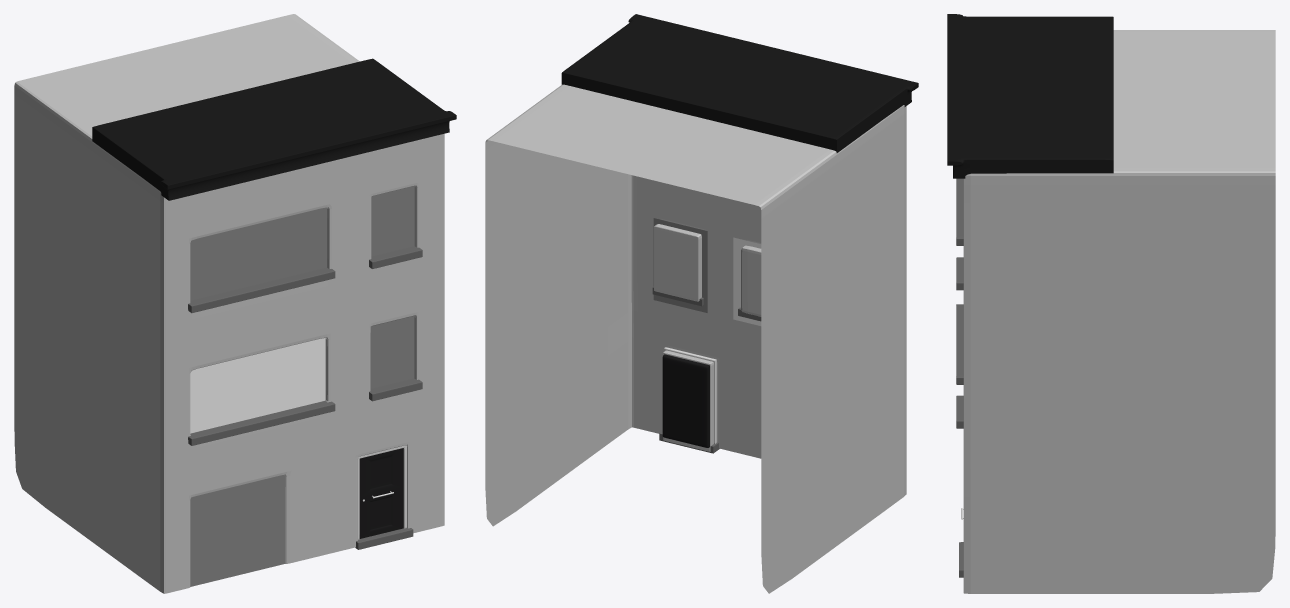
File: house.fbx
3 views of the same model, side by side, from view 1: azimuth 30°, elevation 25°; view 2: azimuth 150°, elevation 25°; view 3: azimuth 270°, elevation 25° (orthographic). The views are drawn at different scales.
Parts seen in each view (by area): view 1: house, roof, largewindow1, garage, largewindow2, door, smallwindow1, smallwindow2, doorstep.003, doorstep.004, doorstep.002, doorstep.001 (+2 smaller); view 2: house, roof, door, smallwindow1, largewindow1; view 3: house, roof, doorstep.004, doorstep.003.
Part boxes in pixels (x1,y1,x2,y2): house: (14,14,444,593); roof: (92,58,456,200); largewindow1: (190,338,325,433); garage: (190,475,285,586); largewindow2: (190,207,326,300); door: (359,448,403,538); smallwindow1: (370,316,414,388); smallwindow2: (371,186,414,256); doorstep.003: (188,267,335,313); doorstep.004: (188,401,335,445); doorstep.002: (369,246,422,268); doorstep.001: (369,378,422,401); house: (485,84,906,593); roof: (561,14,918,152); door: (662,354,709,447); smallwindow1: (653,218,707,312); largewindow1: (733,237,761,325); house: (963,30,1275,593); roof: (947,14,1113,178); doorstep.004: (956,304,963,384); doorstep.003: (956,178,963,245).
Size of the model in its own units: 229 by 315 by 215.
